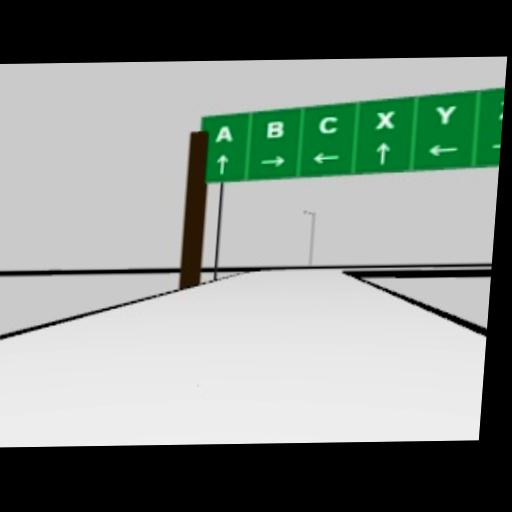A: (213, 123, 233, 142)
B: (264, 120, 284, 138)
C: (318, 115, 339, 135), (497, 101, 503, 120)
Left: (424, 144, 459, 157), (311, 151, 339, 163)
Right: (259, 156, 286, 168), (492, 142, 501, 148)
Straight: (374, 141, 390, 164), (215, 154, 228, 173)
X: (374, 110, 396, 129)
Y: (434, 105, 456, 124)
